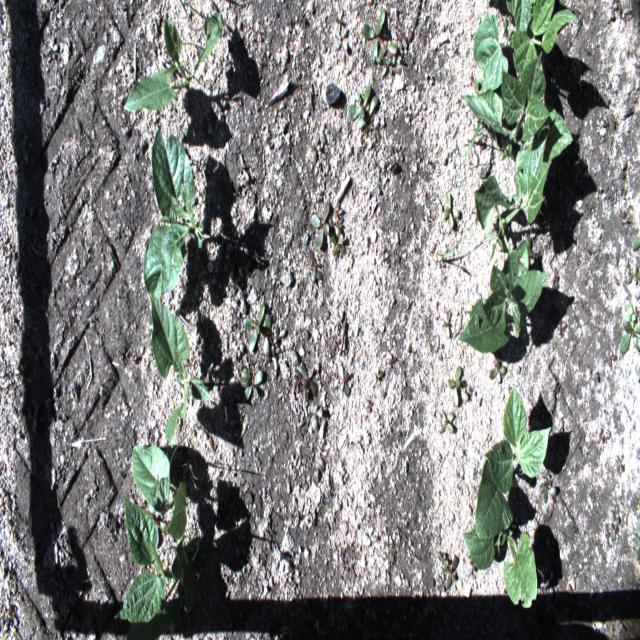crop: (460, 52, 574, 172), (114, 492, 203, 639), (474, 131, 552, 293), (475, 382, 550, 544), (144, 127, 210, 310), (150, 293, 218, 448), (474, 0, 580, 97), (124, 11, 222, 111), (454, 264, 549, 354), (131, 444, 200, 540), (462, 528, 538, 609)
weed: (242, 304, 285, 371), (364, 10, 398, 78), (348, 84, 380, 142), (619, 302, 640, 354), (310, 201, 332, 249), (330, 202, 348, 260), (292, 362, 317, 401), (241, 360, 263, 404), (435, 550, 459, 590), (448, 366, 468, 408), (332, 360, 350, 398), (306, 248, 324, 283), (443, 192, 459, 230), (622, 257, 640, 285), (489, 358, 507, 385), (540, 478, 558, 504), (606, 510, 621, 540), (310, 404, 325, 432), (439, 411, 455, 433), (440, 310, 452, 338), (606, 1, 620, 19)
